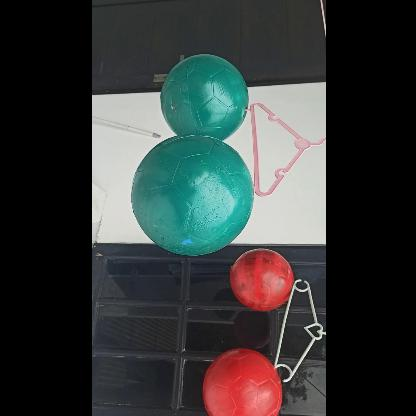red_ball: (200, 351, 282, 415), (230, 250, 292, 312)
